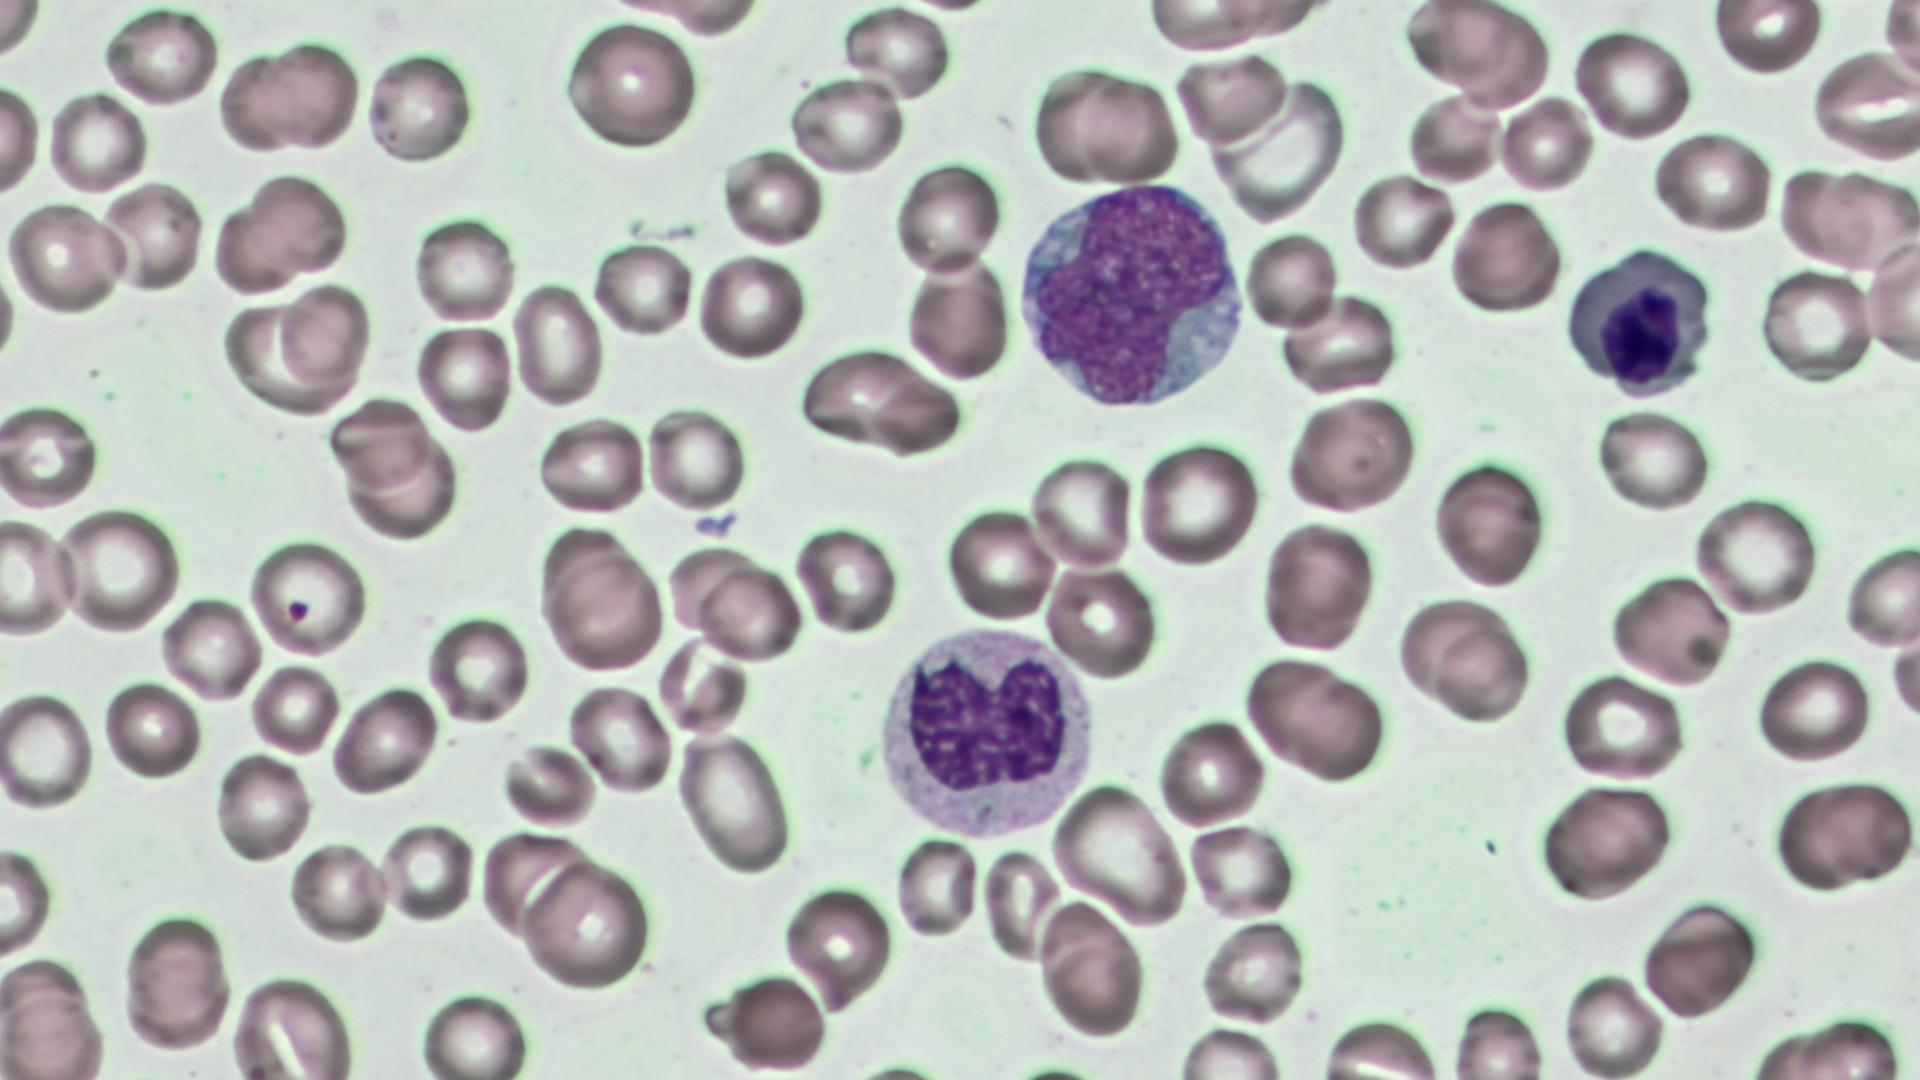Platelets: (688, 510, 743, 540), (658, 217, 700, 246)
RBC: (1048, 779, 1188, 929), (560, 16, 700, 156), (1241, 657, 1387, 784), (521, 855, 653, 994), (1133, 434, 1262, 571), (673, 729, 794, 875), (214, 297, 358, 419), (52, 504, 183, 638), (1534, 782, 1676, 903), (792, 347, 954, 453), (1281, 392, 1419, 516), (1768, 776, 1912, 894), (118, 910, 234, 1052), (1258, 519, 1374, 654), (248, 534, 369, 662), (1432, 459, 1548, 592), (1638, 896, 1761, 1021), (544, 551, 666, 675), (1695, 494, 1818, 616), (1755, 265, 1878, 386), (361, 43, 477, 170), (782, 880, 891, 1014), (3, 198, 125, 317), (942, 502, 1059, 626), (1569, 25, 1695, 140), (1608, 571, 1731, 688), (904, 254, 1012, 385), (1648, 125, 1774, 237), (1068, 65, 1182, 188), (228, 970, 357, 1078), (1446, 197, 1562, 317), (1557, 672, 1683, 782), (1046, 560, 1158, 682), (1040, 910, 1144, 1041), (1154, 712, 1268, 831), (1752, 653, 1872, 766), (1276, 289, 1400, 398), (329, 679, 440, 800), (338, 434, 460, 544), (709, 968, 832, 1077), (693, 248, 808, 364), (890, 158, 1000, 279), (1590, 404, 1713, 512), (1809, 46, 1920, 164), (1029, 449, 1134, 572), (99, 176, 206, 296), (100, 4, 218, 111), (424, 610, 531, 728), (567, 678, 674, 796), (259, 34, 362, 155), (241, 168, 352, 280), (408, 211, 516, 326), (411, 319, 515, 437), (1198, 918, 1313, 1024), (532, 412, 648, 517), (511, 280, 604, 410), (644, 402, 750, 515), (44, 85, 150, 198), (794, 522, 897, 638), (0, 687, 95, 812), (788, 74, 904, 176), (213, 749, 314, 866), (718, 142, 826, 251), (1, 398, 104, 510), (1186, 820, 1298, 922), (1562, 967, 1666, 1076), (159, 592, 261, 703), (840, 3, 952, 104), (1427, 615, 1532, 722), (1173, 49, 1290, 145), (590, 237, 696, 342), (285, 837, 389, 942), (1349, 169, 1457, 270), (101, 677, 201, 783), (414, 988, 534, 1076), (381, 818, 477, 926), (277, 281, 370, 391), (1243, 229, 1340, 334), (1396, 2, 1514, 88), (982, 844, 1065, 966), (698, 562, 799, 662), (0, 516, 81, 640), (1496, 94, 1594, 194), (890, 832, 979, 942), (326, 395, 428, 487), (1406, 91, 1504, 185), (215, 48, 299, 155), (248, 662, 340, 759), (1707, 0, 1821, 75), (1840, 539, 1918, 648), (1448, 1002, 1550, 1080), (1862, 235, 1918, 368), (1172, 1021, 1289, 1078), (0, 838, 54, 960), (0, 73, 42, 205), (1878, 0, 1920, 92)
WBC: (1010, 174, 1253, 417), (870, 620, 1098, 847), (1560, 239, 1722, 397)
